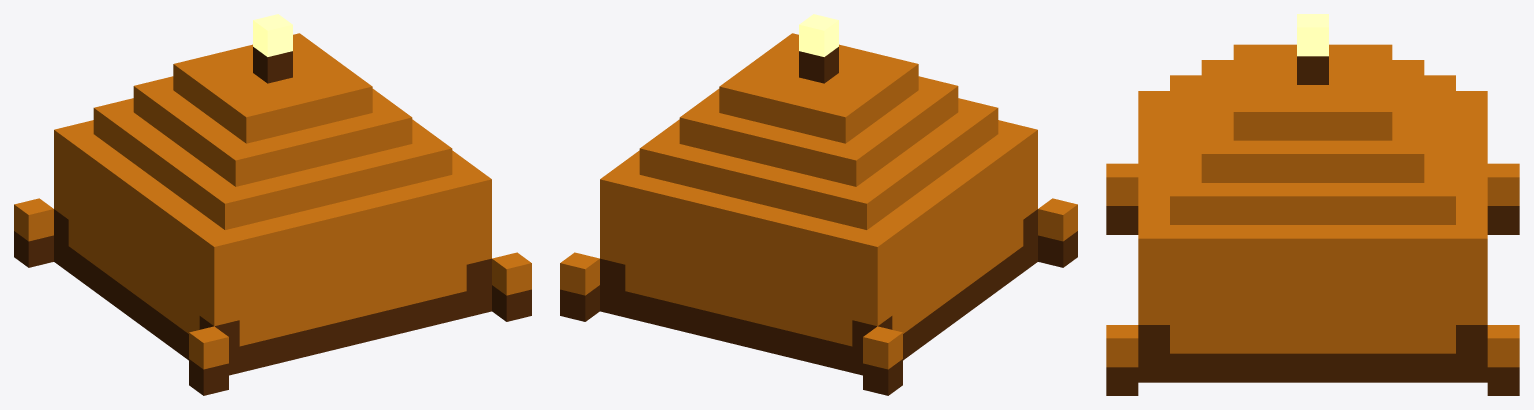
The model's file is SM_Enemy_Wanderer.fbx.
3 renders of one model, left to right at view 1: azimuth 30°, elevation 25°; view 2: azimuth 150°, elevation 25°; view 3: azimuth 270°, elevation 25°, orthographic. The views are drawn at different scales.
Parts seen in each view (by area): view 1: SM_Enemy_Wanderer; view 2: SM_Enemy_Wanderer; view 3: SM_Enemy_Wanderer.
Boxes of the visible parts, x1=… form: SM_Enemy_Wanderer: x1=14, y1=14, x2=531, y2=395; SM_Enemy_Wanderer: x1=560, y1=14, x2=1077, y2=395; SM_Enemy_Wanderer: x1=1106, y1=14, x2=1519, y2=395.
Bounding box in the file's own units: 78 × 78 × 60.
